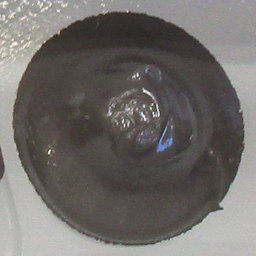perfect: (10, 9, 248, 246)
